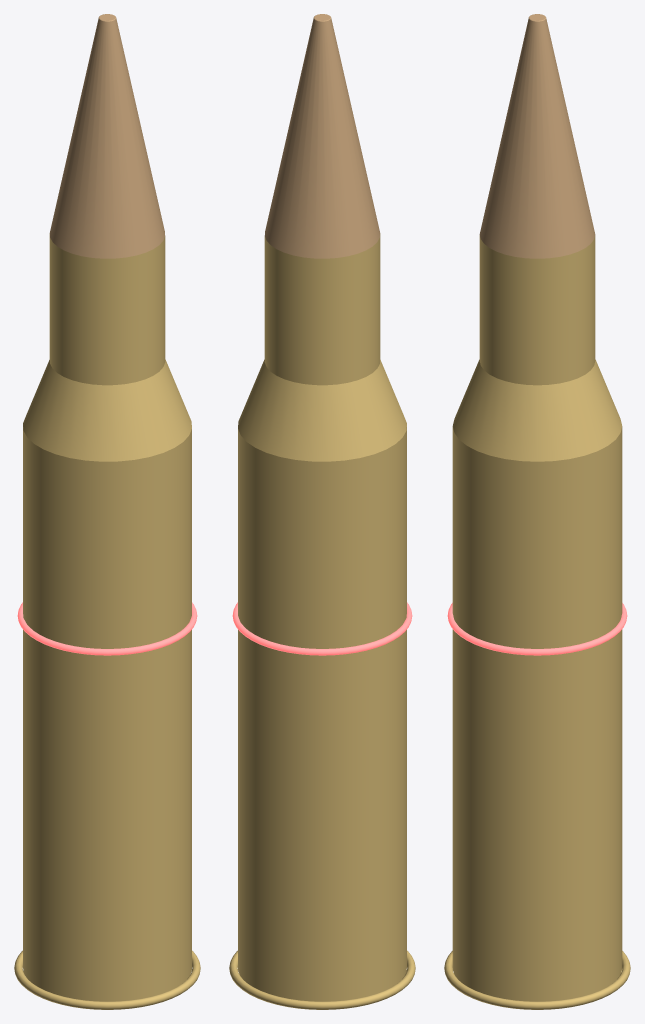
Rendered from SM_AMO_SNIPER.fbx.
The picture shows the model from 3 angles, left to right: view 1: azimuth 30°, elevation 25°; view 2: azimuth 150°, elevation 25°; view 3: azimuth 270°, elevation 25°; orthographic projection.
Visible parts, largest first — view 1: SM_AMO_SNIPER; view 2: SM_AMO_SNIPER; view 3: SM_AMO_SNIPER.
Part boxes in pixels (x1,y1,x2,y2): SM_AMO_SNIPER: (14,14,200,1009); SM_AMO_SNIPER: (229,14,415,1009); SM_AMO_SNIPER: (444,14,630,1009).
Size of what is drawn, in the model's own units: 0.0187 by 0.1056 by 0.0187.
